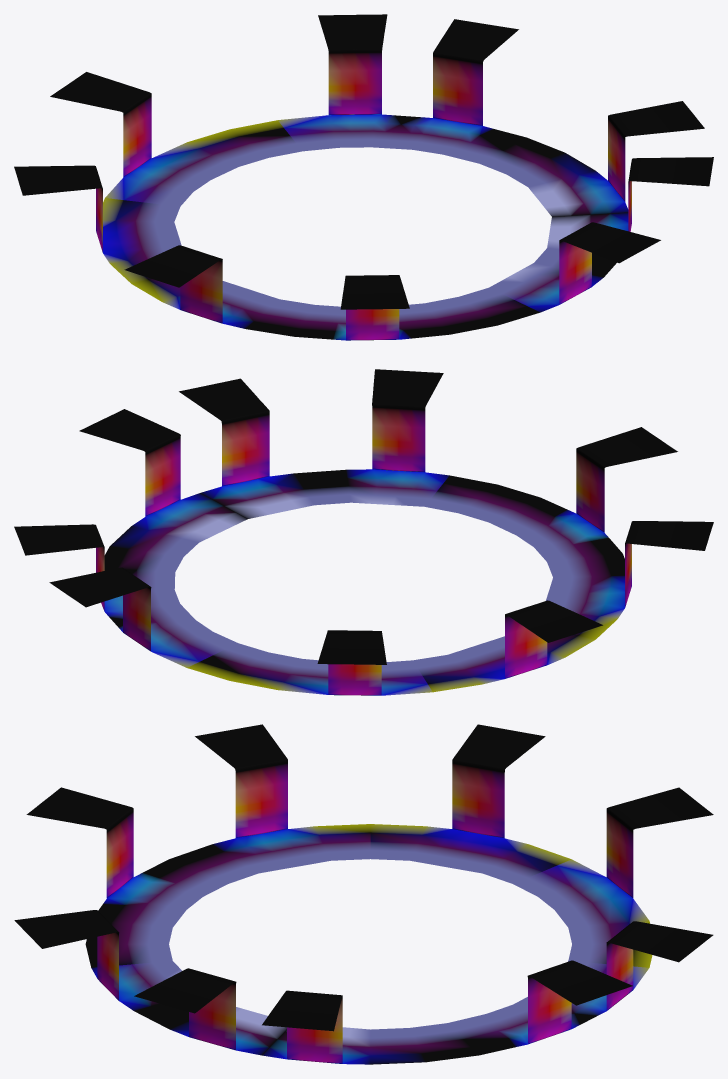
3 views of the same model, one above another, from view 1: azimuth 30°, elevation 25°; view 2: azimuth 150°, elevation 25°; view 3: azimuth 270°, elevation 25° (orthographic). The views are drawn at different scales.
Visible parts, largest first — view 1: G:\FFXIV-MapTools\exports\k5f1\bg\ex4\03_kld_k5\fld\k5f1\bgp (×2); view 2: G:\FFXIV-MapTools\exports\k5f1\bg\ex4\03_kld_k5\fld\k5f1\bgp (×2); view 3: G:\FFXIV-MapTools\exports\k5f1\bg\ex4\03_kld_k5\fld\k5f1\bgp (×2).
Boxes of the visible parts, x1=… form: G:\FFXIV-MapTools\exports\k5f1\bg\ex4\03_kld_k5\fld\k5f1\bgp (×2): x1=14, y1=14, x2=713, y2=340; G:\FFXIV-MapTools\exports\k5f1\bg\ex4\03_kld_k5\fld\k5f1\bgp (×2): x1=14, y1=369, x2=713, y2=695; G:\FFXIV-MapTools\exports\k5f1\bg\ex4\03_kld_k5\fld\k5f1\bgp (×2): x1=14, y1=724, x2=713, y2=1064.
Bounding box in the file's own units: 1036 × 109 × 999.
